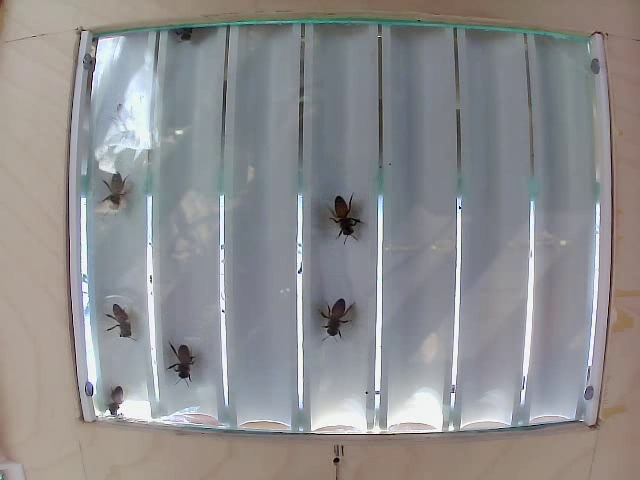bee: (320, 188, 373, 243), (99, 154, 151, 208), (313, 285, 360, 342), (99, 299, 147, 347), (165, 342, 215, 380), (106, 379, 134, 425), (164, 25, 202, 53)
